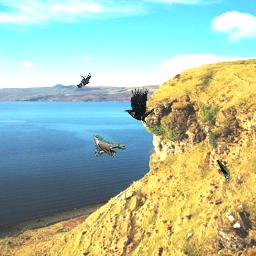Crow: (124, 87, 154, 127), (76, 73, 91, 88)
Cuckoo: (93, 135, 126, 157)
Swallow: (216, 159, 230, 181)
